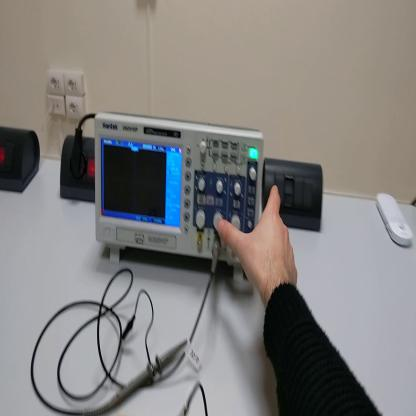hand: (217, 183, 298, 297)
oscilloscope: (96, 114, 267, 286)
oscilloscope probe tip: (78, 340, 188, 414)
socket: (2, 125, 42, 192), (62, 134, 95, 207)
